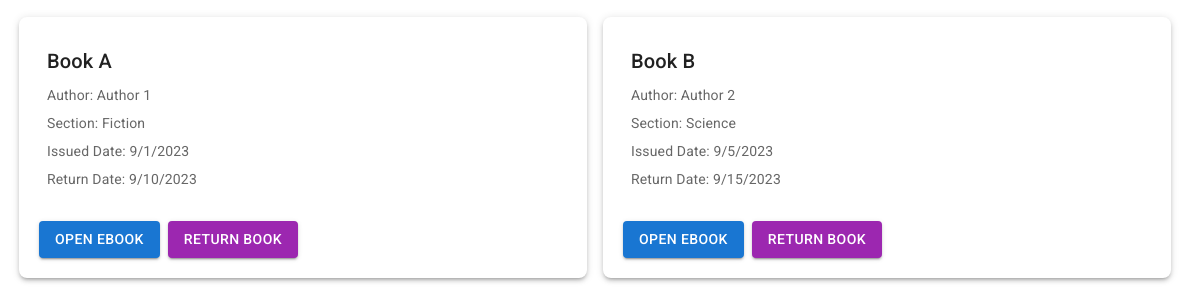
UserDashboard Component › Clicking 'Return Book' button returns the ebook and updates the list
Expected: the text "Book A" is shown, [47,49,112,73]
Expected: the text "Book B" is shown, [631,49,695,73]
Click "Return Book" for the first book
Click the button "Return Book" below "9/10/2023": (233, 239) [168,221,298,258]
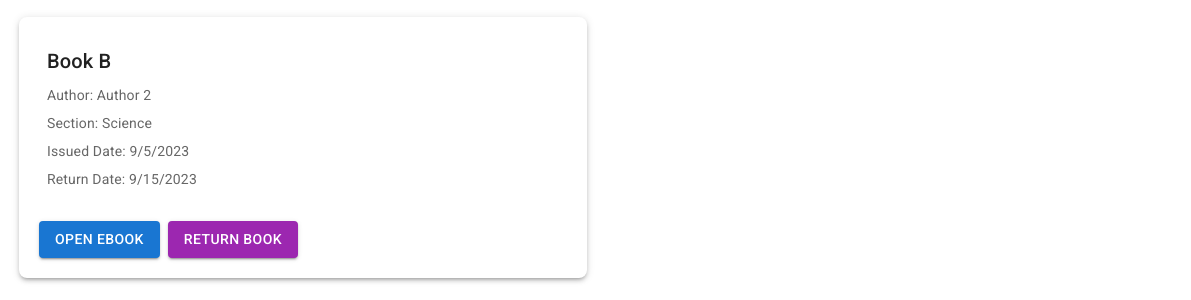
Now the text "Book A" is gone
